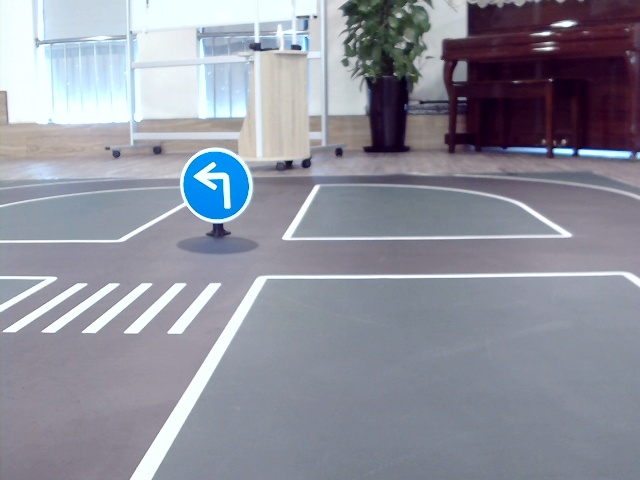turn_left: (193, 162, 238, 212)
